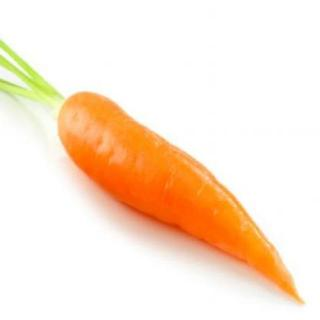carrot: (55, 84, 308, 313)
